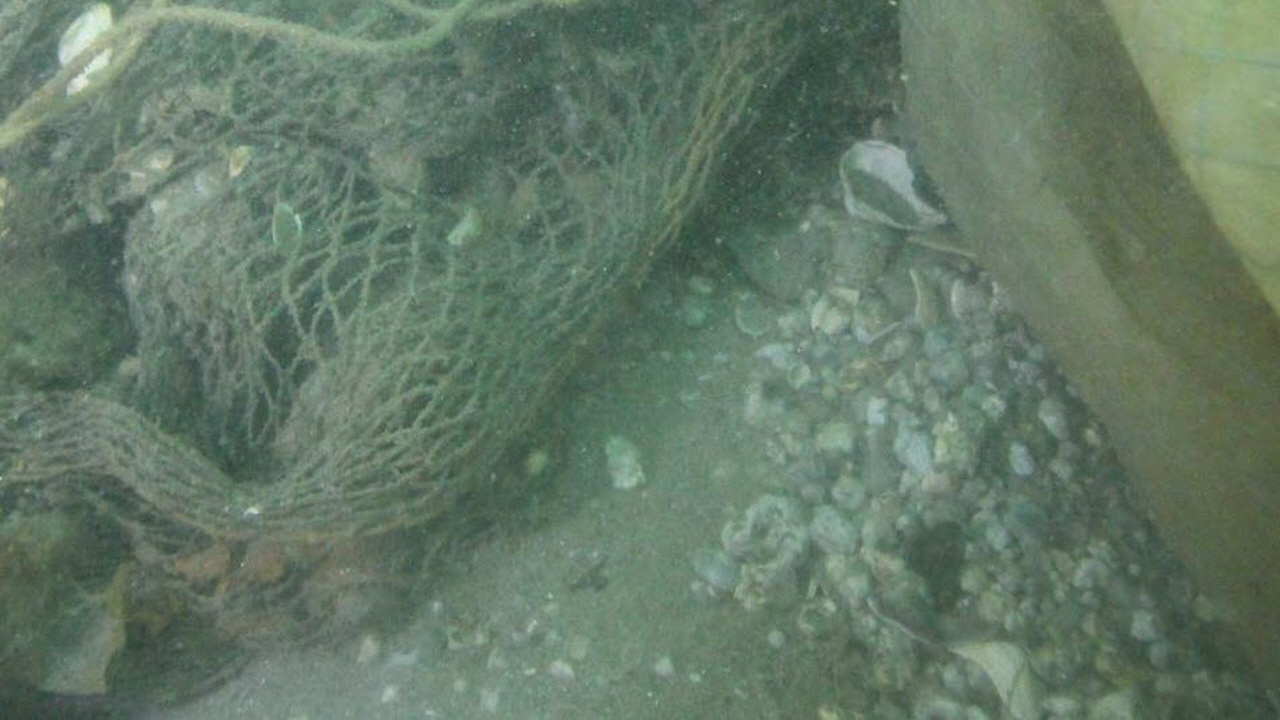fish net: (0, 0, 831, 650)
